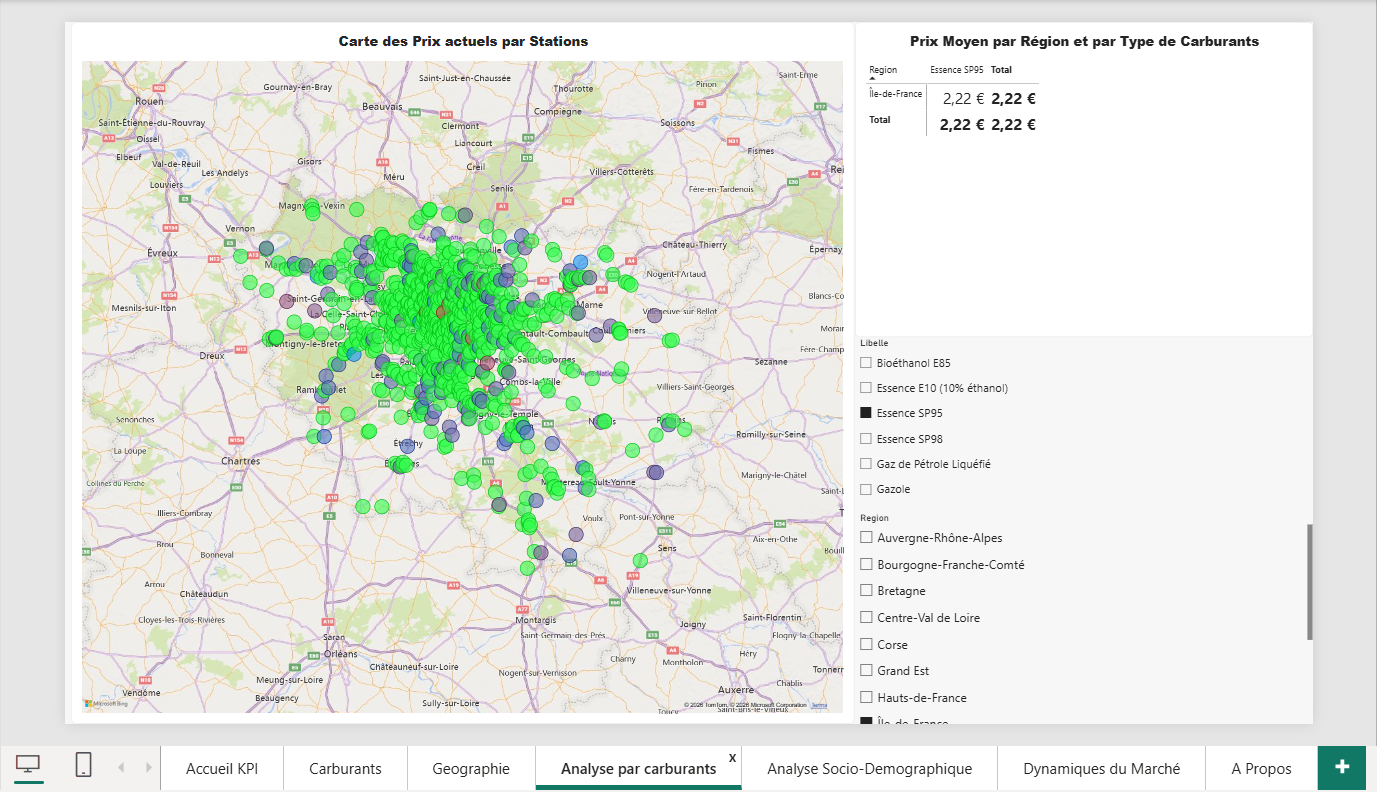

What the dashboard file says about the page in this screenshot:
{"tool":"powerbi","page":{"name":"Analyse par carburants","canvas":[1920,1080],"ordinal":3},"visuals":[{"type":"map","title":"Carte des Prix actuels par Stations","fields":{"X":["Dim_Station.Longitude"],"Y":["Dim_Station.Latitude"]},"box":[10,0,1205,1080],"z":0},{"type":"pivotTable","title":"Prix Moyen par Région et par Type de Carburants","fields":{"Columns":["Dim_Carburant.Libelle"],"Rows":["Dim_Station.Region"],"Values":["Table.Prix Moyen National"]},"box":[1215,0,705,485],"z":1000},{"type":"slicer","fields":{"Values":["Dim_Carburant.Libelle"]},"box":[1214.9,485.1,704.3,268.1],"z":2000},{"type":"slicer","fields":{"Values":["Dim_Station.Region"]},"box":[1215,753,704,327],"z":3000}]}

Visuals, with their boxes on the page's 1920x1080 design canvas (x1, y1, x2, y2). These are canvas units, not pixel positions in the 1377x792 screenshot, which may show the page scaled, cropped or inside an application window:
"Carte des Prix actuels par Stations" map: x1=10 y1=0 x2=1215 y2=1080
"Prix Moyen par Région et par Type de Carburants" pivotTable: x1=1215 y1=0 x2=1920 y2=485
slicer - Dim_Carburant.Libelle: x1=1215 y1=485 x2=1919 y2=753
slicer - Dim_Station.Region: x1=1215 y1=753 x2=1919 y2=1080
